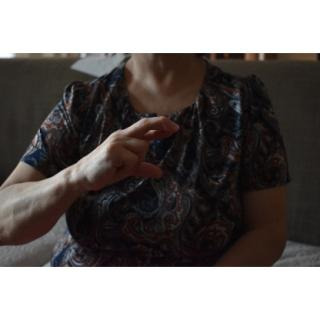DHELL: (72, 109, 188, 194)
